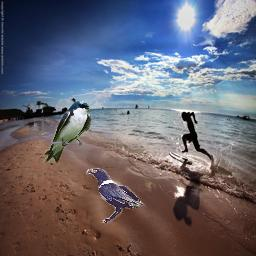Crow: (86, 168, 145, 223)
Swallow: (43, 100, 92, 163)
